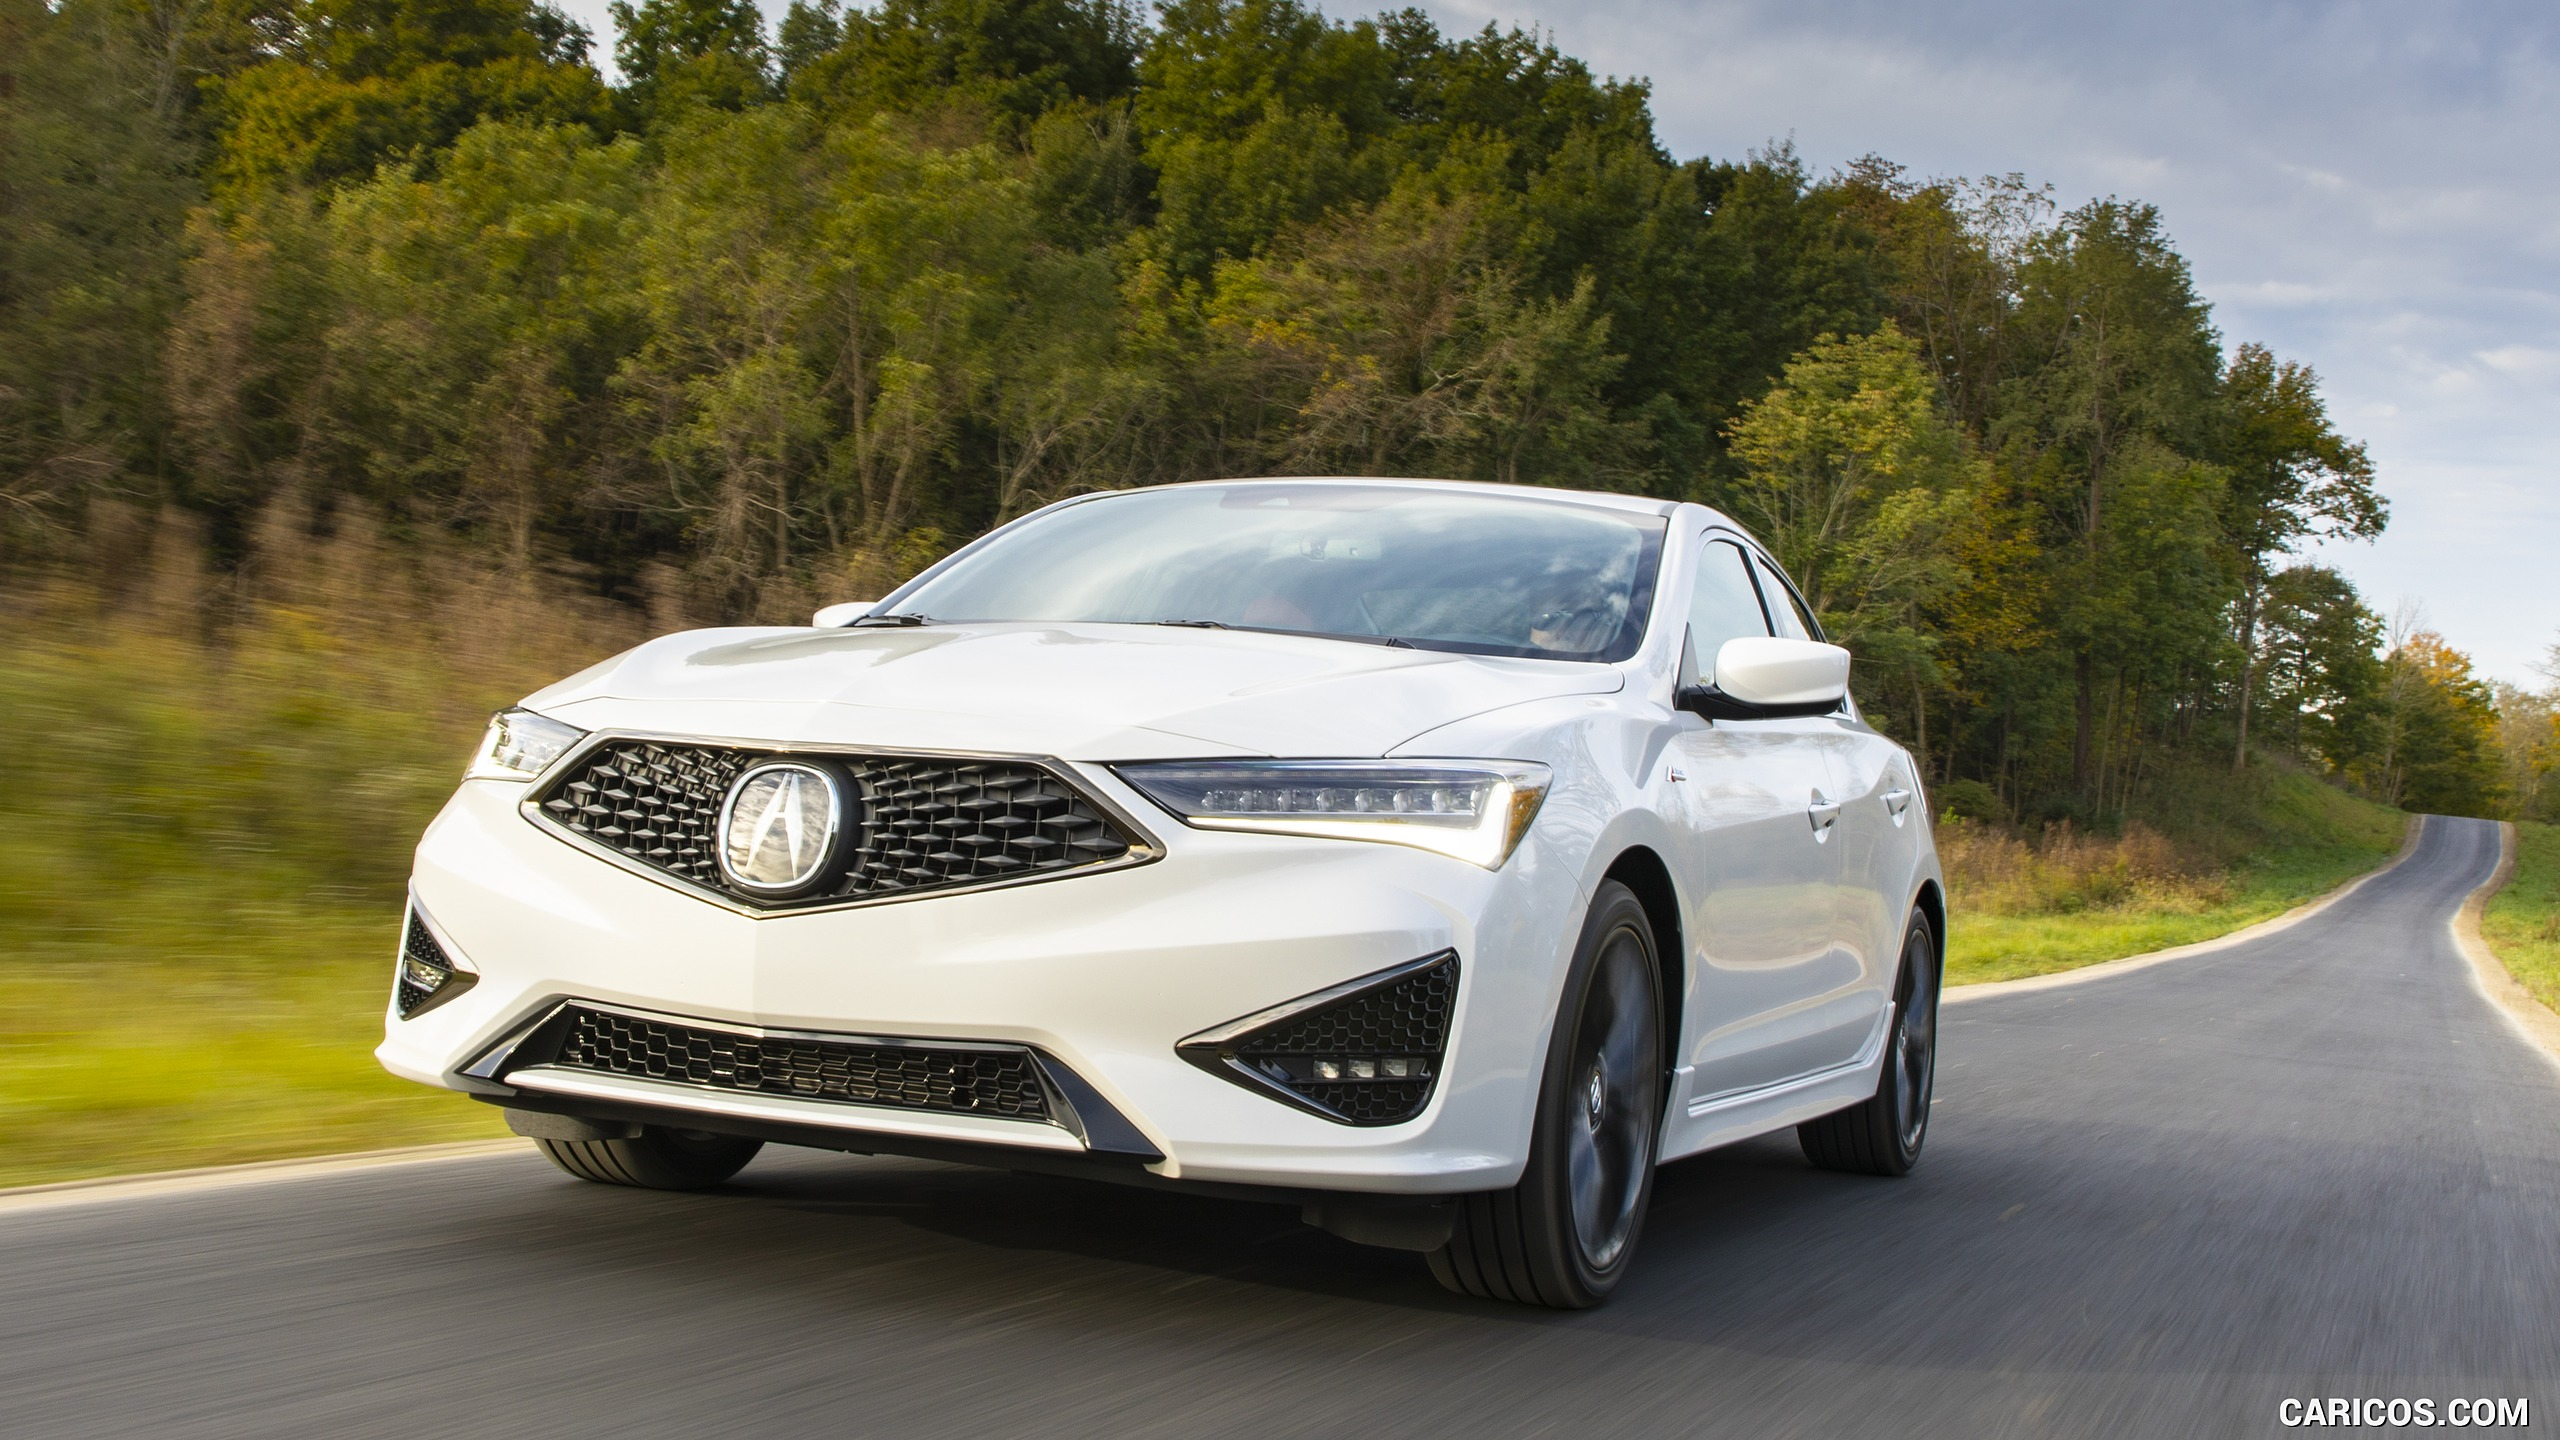Fog Lamp & Scope: (1257, 995, 1456, 1120)
Front: (362, 665, 1626, 1187)
Front Bumper: (376, 921, 1544, 1176)
Grill: (564, 745, 1108, 890)
Headlight: (1152, 767, 1553, 842)
